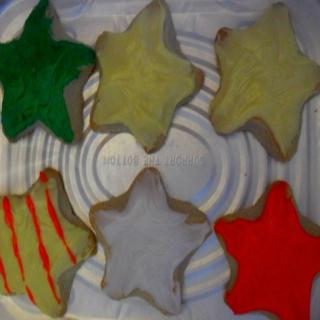Cookie: (87, 165, 210, 315), (207, 0, 320, 162), (90, 0, 204, 157), (212, 178, 320, 320), (0, 166, 97, 319), (0, 0, 97, 146)
